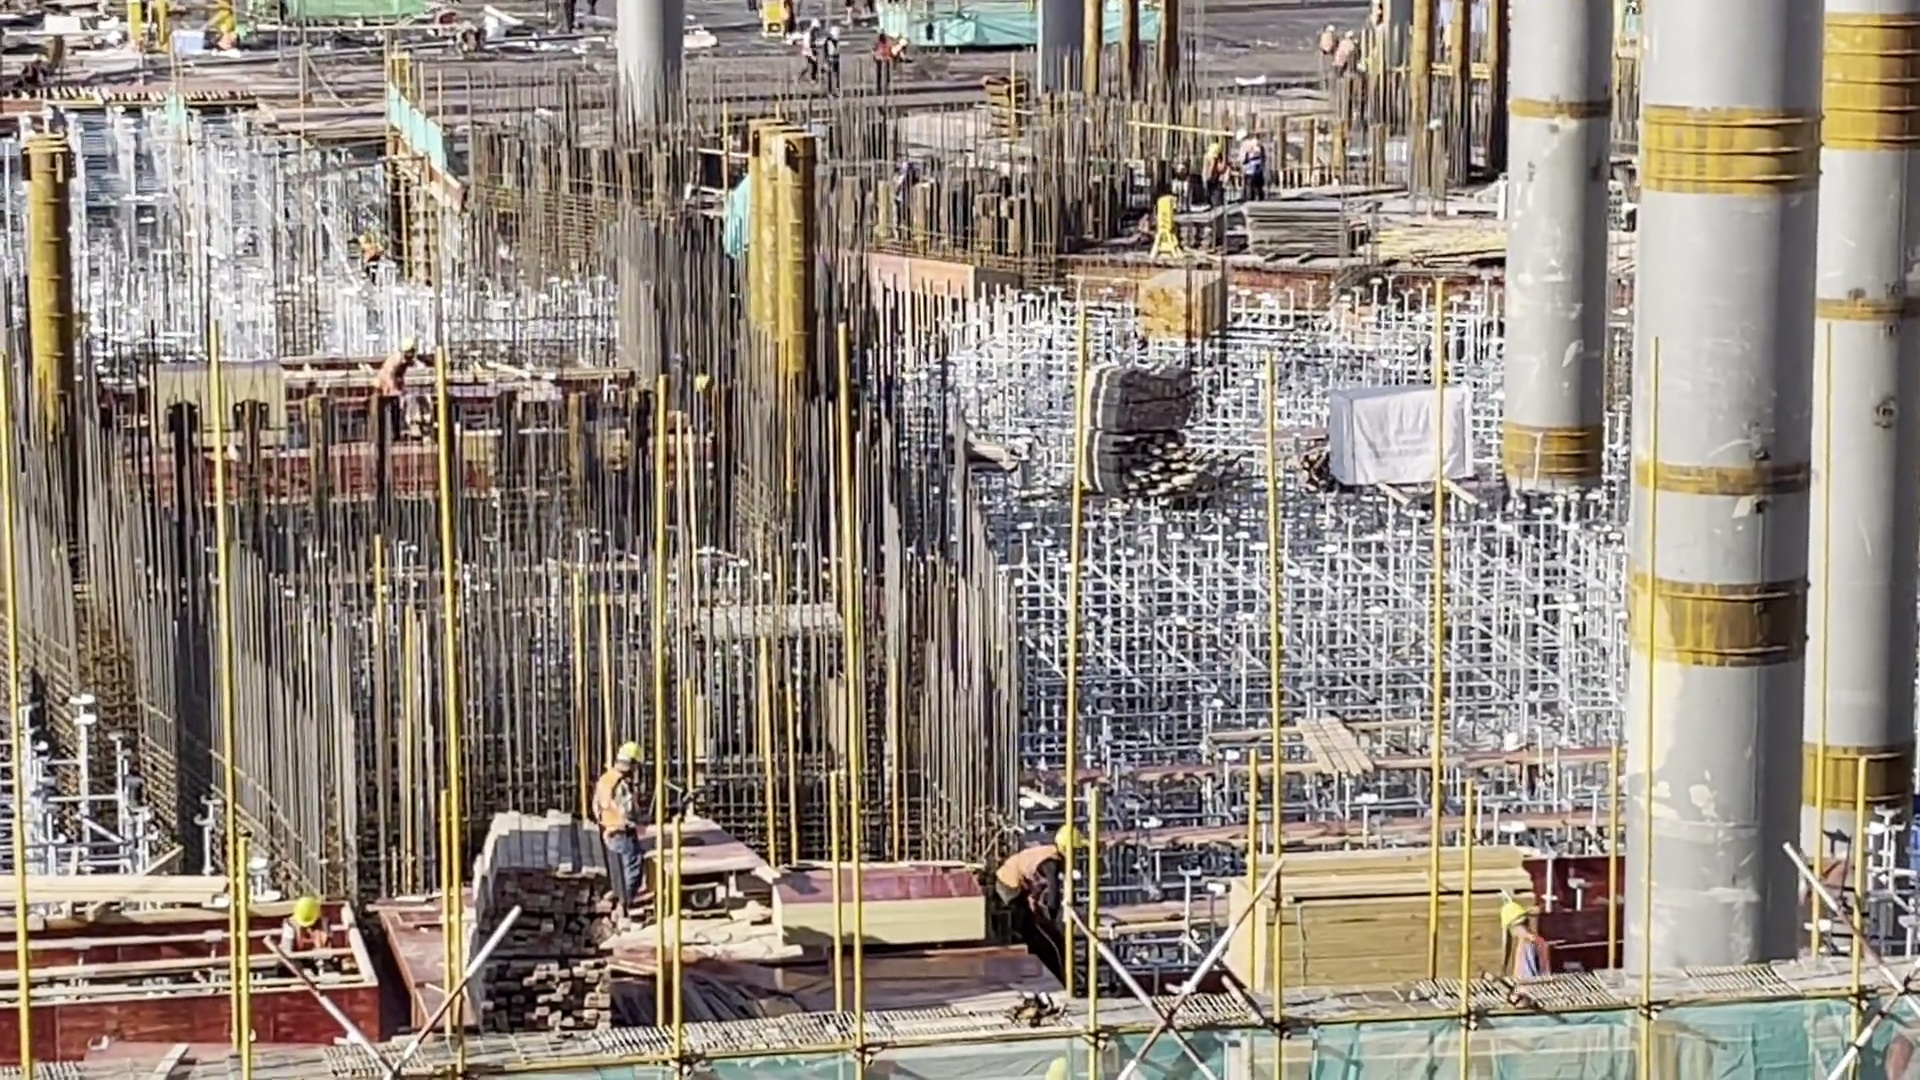helmet: (1051, 812, 1099, 868), (291, 887, 326, 935), (1493, 895, 1538, 930), (610, 734, 649, 768)
person: (996, 812, 1099, 991), (582, 727, 652, 923), (1482, 893, 1569, 1012), (274, 878, 370, 971)
vest: (585, 764, 638, 845), (996, 831, 1058, 891), (1501, 929, 1557, 980)
